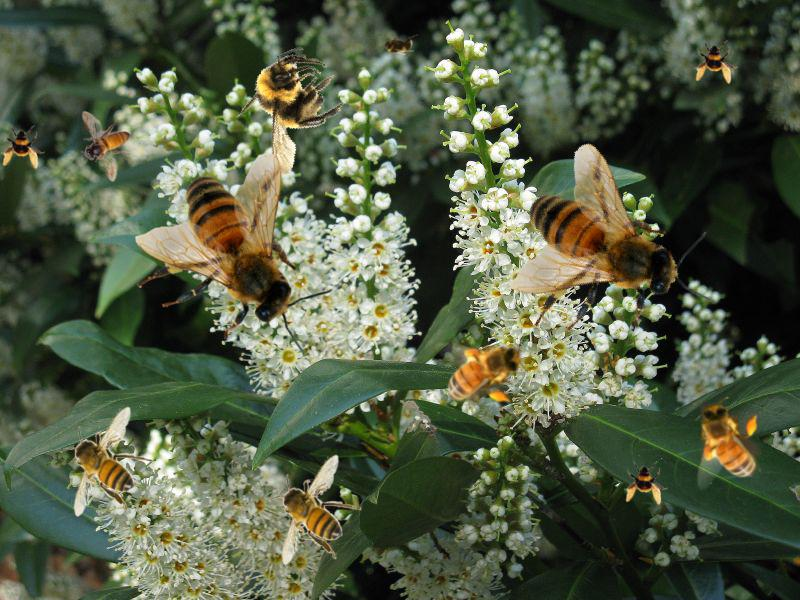Bee: (466, 111, 741, 389), (135, 152, 334, 356), (220, 38, 363, 185), (268, 454, 362, 565), (60, 406, 154, 517), (693, 397, 761, 490), (435, 338, 528, 406), (81, 111, 131, 182), (694, 40, 738, 84), (624, 461, 668, 505), (1, 125, 45, 169), (378, 34, 418, 56)
